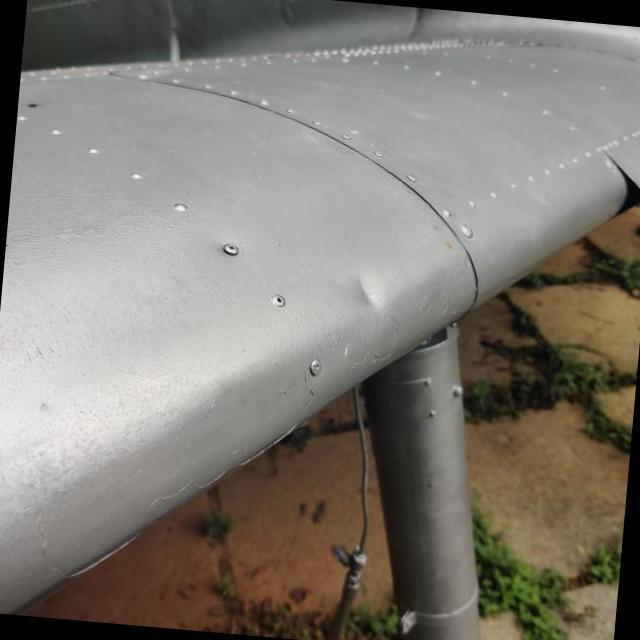dent: (338, 262, 402, 336)
